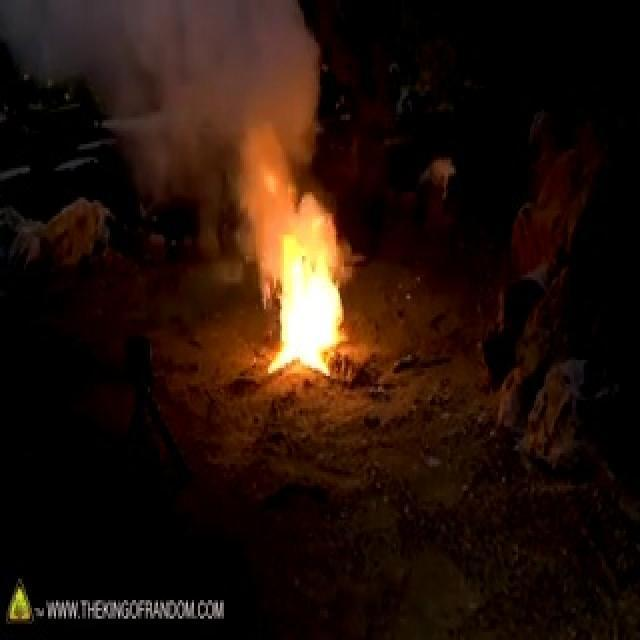Fire: (264, 236, 346, 378)
Smoke: (1, 0, 332, 231)
